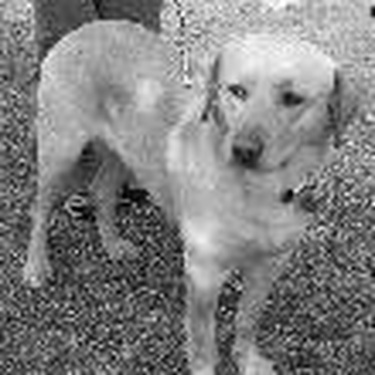dog: (15, 15, 359, 373)
